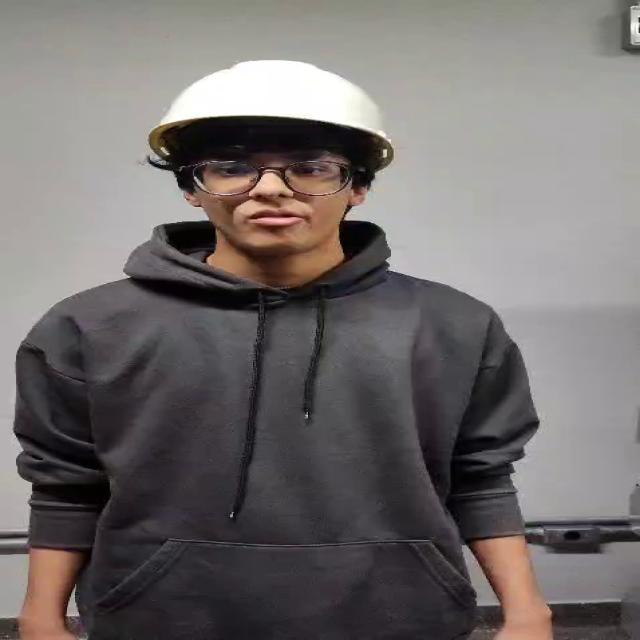capacete: (116, 32, 444, 198)
